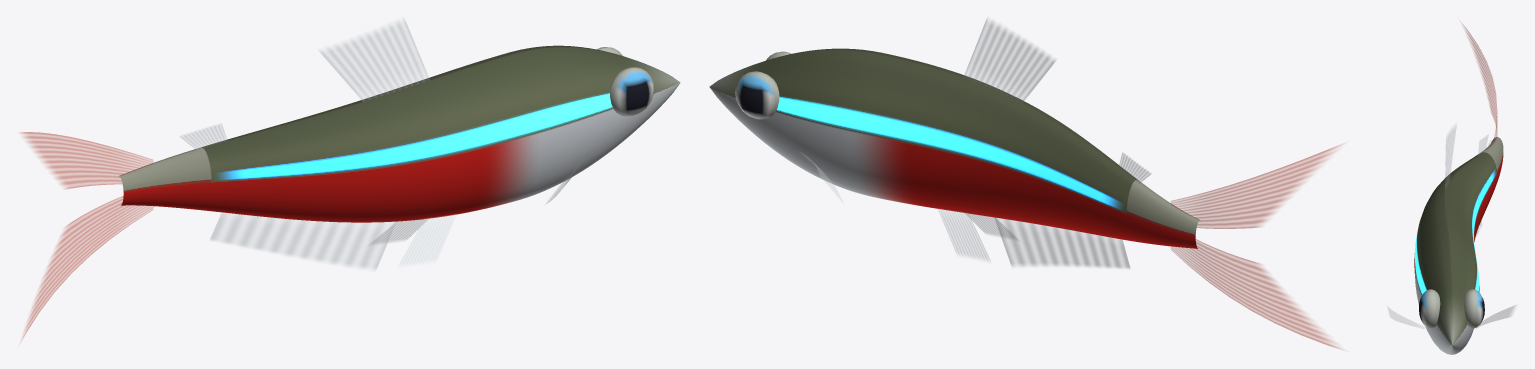
File: fauna-neon-tetra.glb
The picture shows the model from 3 angles, left to right: view 1: azimuth 30°, elevation 25°; view 2: azimuth 150°, elevation 25°; view 3: azimuth 270°, elevation 25°; orthographic projection. The views are drawn at different scales.
Parts seen in each view (by area): view 1: NeonTetra_body, NeonTetra_fin, NeonTetra_finRed, NeonTetra_eye; view 2: NeonTetra_body, NeonTetra_fin, NeonTetra_finRed, NeonTetra_eye; view 3: NeonTetra_body, NeonTetra_eye, NeonTetra_fin, NeonTetra_finRed.
Boxes of the visible parts, x1,y1,x2,y2 form: NeonTetra_body: [119, 45, 680, 222]; NeonTetra_fin: [179, 18, 589, 270]; NeonTetra_finRed: [20, 132, 153, 341]; NeonTetra_eye: [597, 47, 654, 116]; NeonTetra_body: [709, 48, 1199, 248]; NeonTetra_fin: [800, 18, 1151, 268]; NeonTetra_finRed: [1171, 144, 1341, 349]; NeonTetra_eye: [735, 51, 791, 119]; NeonTetra_body: [1414, 137, 1503, 354]; NeonTetra_eye: [1419, 289, 1484, 328]; NeonTetra_fin: [1387, 124, 1515, 328]; NeonTetra_finRed: [1462, 24, 1497, 144].
Bounding box in the file's own units: 0.4375 × 0.1603 × 0.1013.
Materials: 4 (3 with a texture image).
